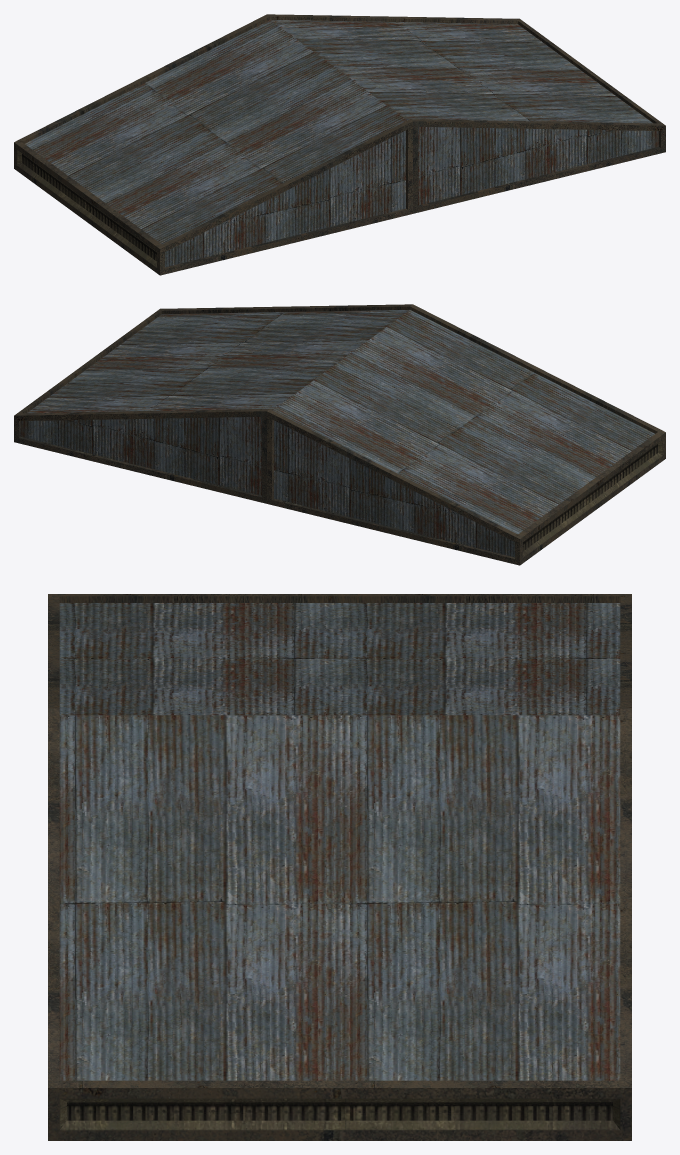
File: roof_mh_3.obj
The picture shows the model from 3 angles, top to bottom: view 1: azimuth 30°, elevation 25°; view 2: azimuth 150°, elevation 25°; view 3: azimuth 270°, elevation 25°; orthographic projection. The views are drawn at different scales.
Parts seen in each view (by area): view 1: roof_mh_3; view 2: roof_mh_3; view 3: roof_mh_3.
Part boxes in pixels (box(x1,y1,x2,y2)): roof_mh_3: box(14, 14, 665, 275); roof_mh_3: box(14, 304, 665, 565); roof_mh_3: box(48, 594, 631, 1140).
Bounding box in the file's own units: 8 × 1.4 × 4.
